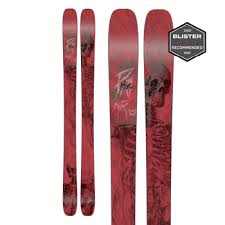skis: (106, 8, 176, 225), (57, 9, 97, 217)
